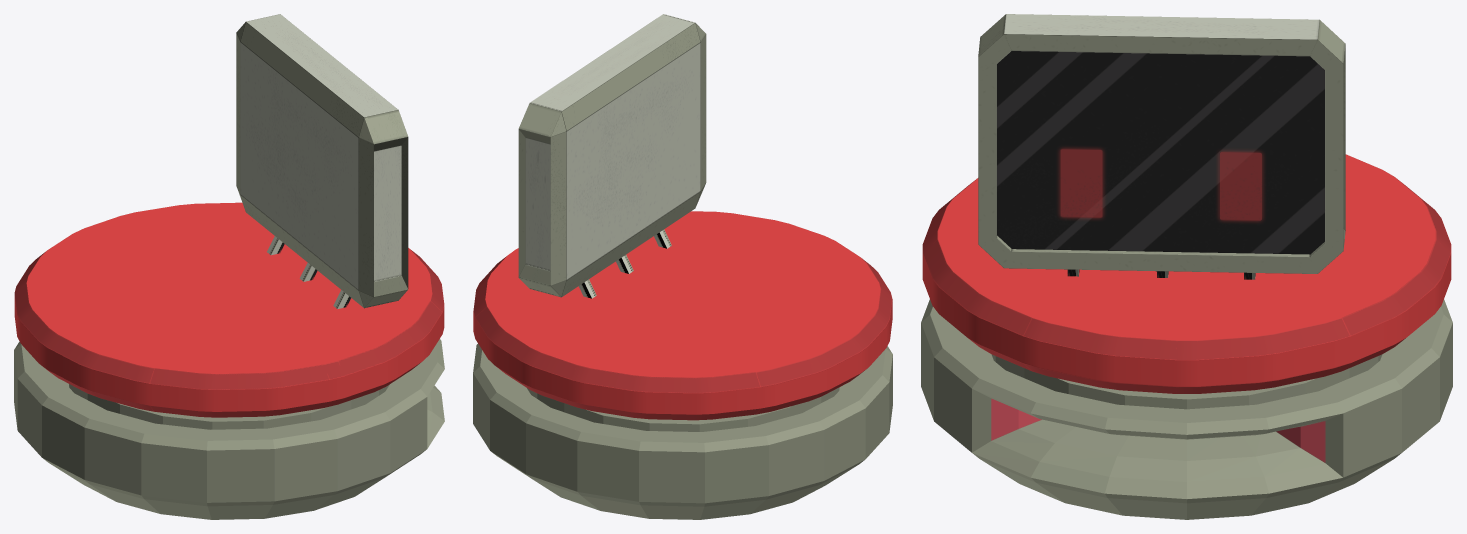
The model's file is robot6.fbx.
The picture shows the model from 3 angles, left to right: view 1: azimuth 30°, elevation 25°; view 2: azimuth 150°, elevation 25°; view 3: azimuth 270°, elevation 25°; orthographic projection. The views are drawn at different scales.
Visible parts, largest first — view 1: Robot_Component_2:Robot_Component_2:pCylinder2, Robot_Component_2:pCylinder1; view 2: Robot_Component_2:Robot_Component_2:pCylinder2, Robot_Component_2:pCylinder1; view 3: Robot_Component_2:Robot_Component_2:pCylinder2, Robot_Component_2:pCylinder1.
Part boxes in pixels (bbox=[...]): Robot_Component_2:Robot_Component_2:pCylinder2: bbox=[14, 14, 444, 417]; Robot_Component_2:pCylinder1: bbox=[14, 339, 444, 519]; Robot_Component_2:Robot_Component_2:pCylinder2: bbox=[473, 14, 892, 420]; Robot_Component_2:pCylinder1: bbox=[473, 344, 892, 519]; Robot_Component_2:Robot_Component_2:pCylinder2: bbox=[922, 14, 1451, 393]; Robot_Component_2:pCylinder1: bbox=[921, 299, 1452, 519].
Size of the model in its own units: 1.8 by 1.7 by 1.8.
